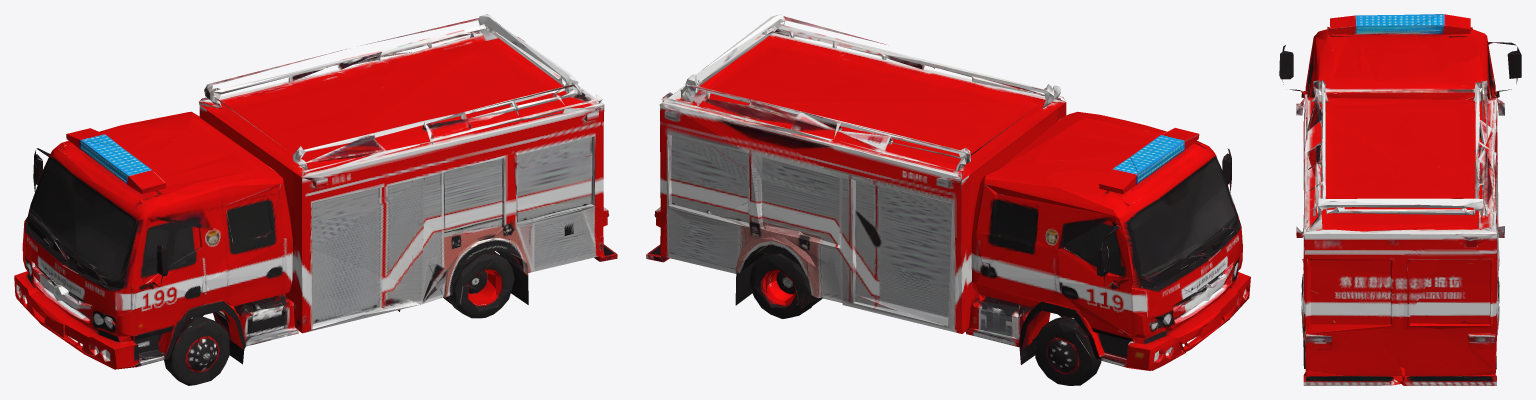
The model's file is fire.glb.
3 views of the same model, side by side, from view 1: azimuth 30°, elevation 25°; view 2: azimuth 150°, elevation 25°; view 3: azimuth 270°, elevation 25° (orthographic). The views are drawn at different scales.
Bounding box in the file's own units: 1.9 × 0.7541 × 0.8355.
1 material, 1 textured.
